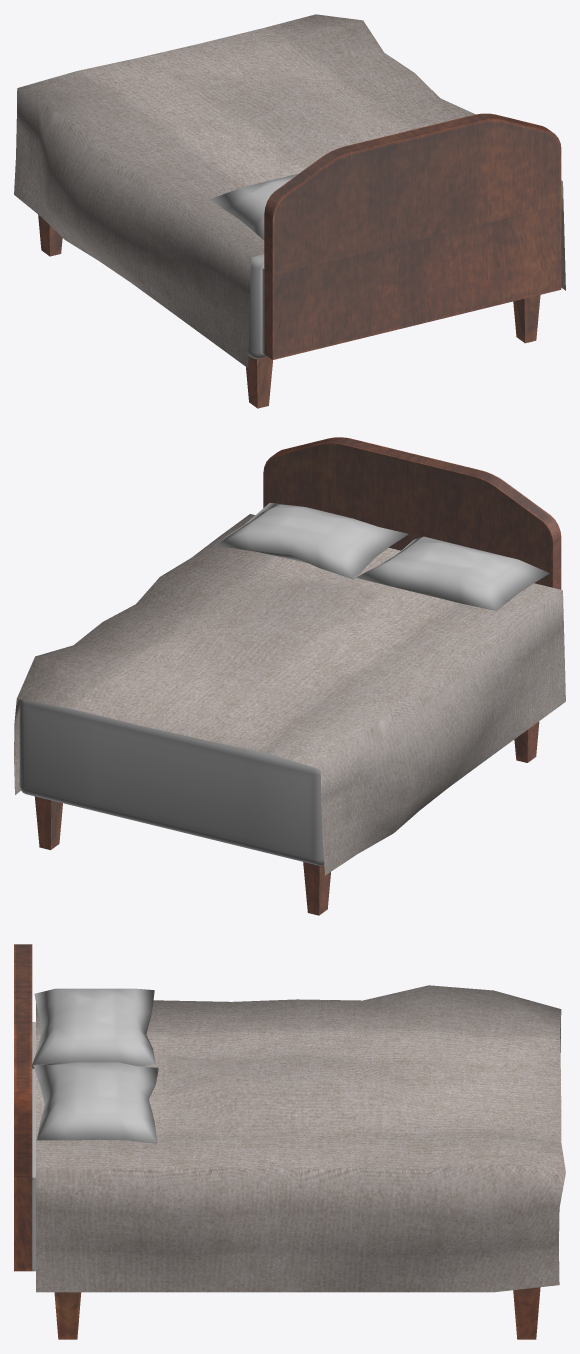
The model's file is Bed.fbx.
3 views of the same model, one above another, from view 1: azimuth 30°, elevation 25°; view 2: azimuth 150°, elevation 25°; view 3: azimuth 270°, elevation 25° (orthographic). The views are drawn at different scales.
Visible parts, largest first — view 1: BedSheet, Bed, Pillow.001; view 2: BedSheet, Bed, Pillow.001, Pillow; view 3: BedSheet, Bed, Pillow, Pillow.001.
Boxes of the visible parts, box(x1,y1,x2,y2) form: BedSheet: box(14, 14, 565, 367); Bed: box(38, 113, 561, 408); Pillow.001: box(210, 173, 298, 240); BedSheet: box(14, 514, 565, 875); Bed: box(19, 437, 561, 915); Pillow.001: box(356, 536, 549, 610); Pillow: box(214, 503, 408, 579); BedSheet: box(36, 985, 565, 1292); Bed: box(14, 944, 540, 1339); Pillow: box(33, 1062, 158, 1143); Pillow.001: box(32, 988, 156, 1068).
Bounding box in the file's own units: 1.75 × 2.11 × 1.18.
